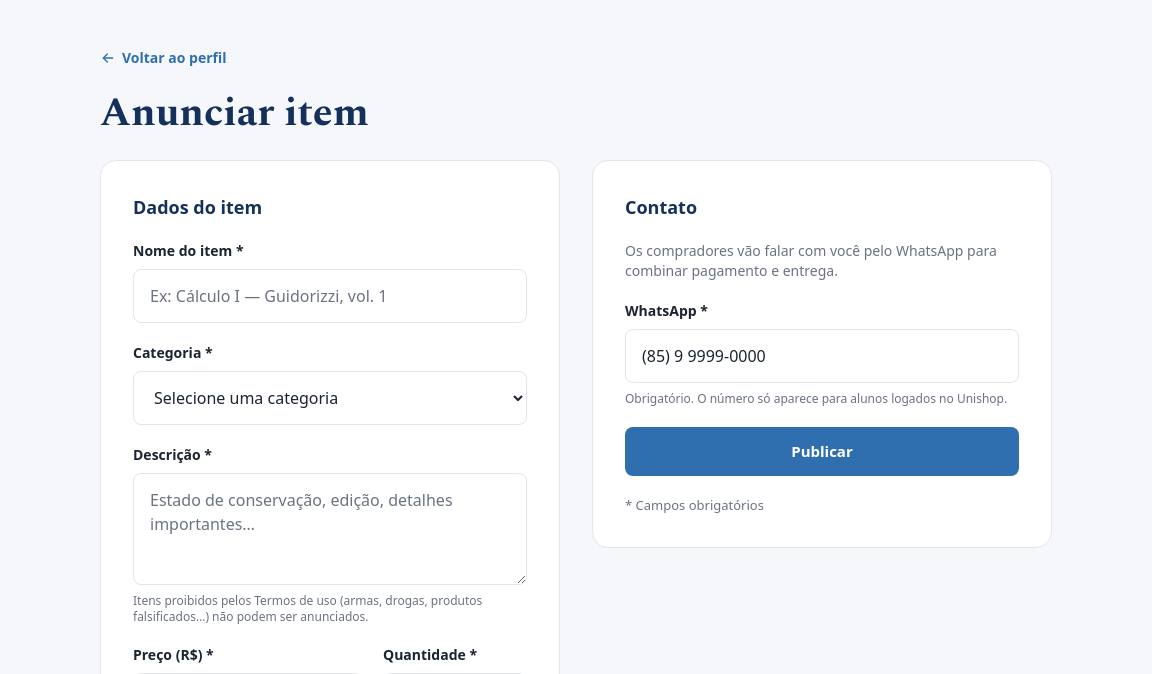
Test case: CreateListingPage · tela › o WhatsApp é formatado enquanto se digita
Expected: the button "Publicar" is shown, x1=625 y1=427 x2=1019 y2=476
Replace the text in the field labelled "WhatsApp *" with "85988887777" at (822, 356), box x1=625 y1=329 x2=1019 y2=383
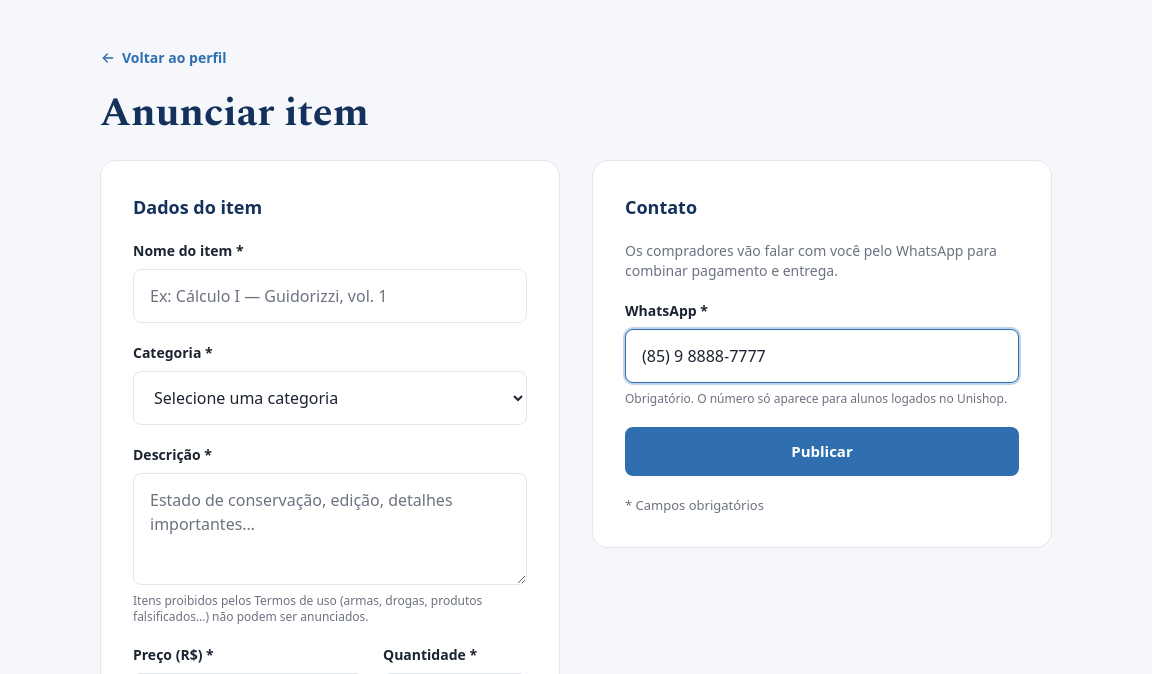
Now the field labelled "WhatsApp *" holds "(85) 9 8888-7777", box x1=625 y1=329 x2=1019 y2=383
